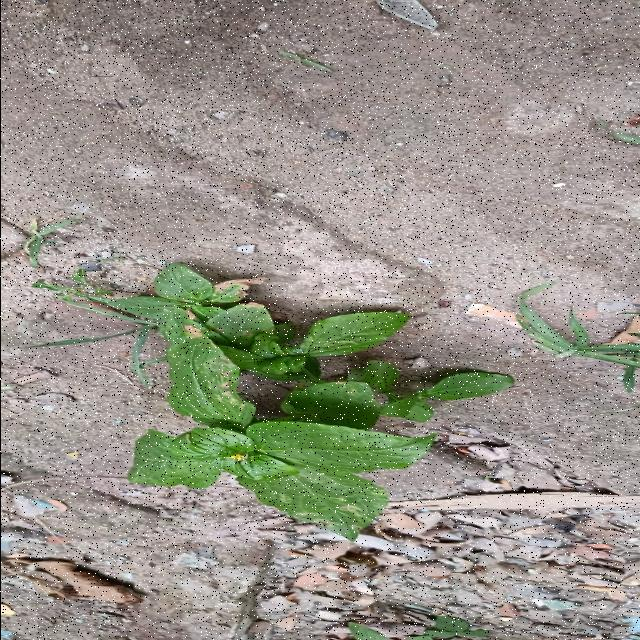plant: (104, 266, 514, 542)
